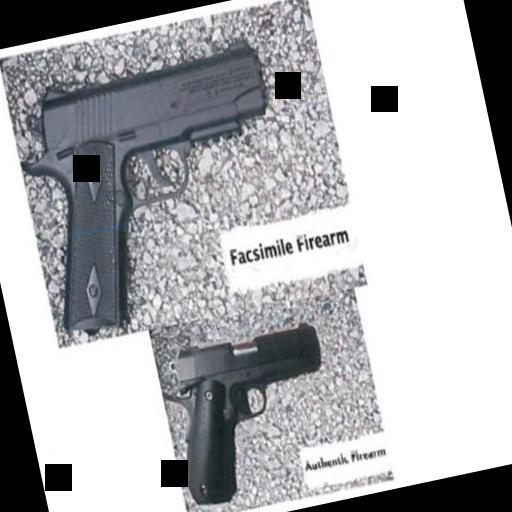Handgun: (6, 26, 304, 344), (154, 301, 350, 512)
